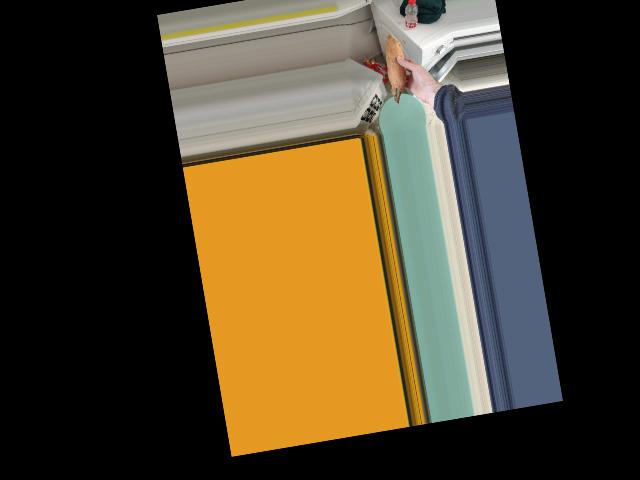sweet_potato: (383, 40, 416, 103)
